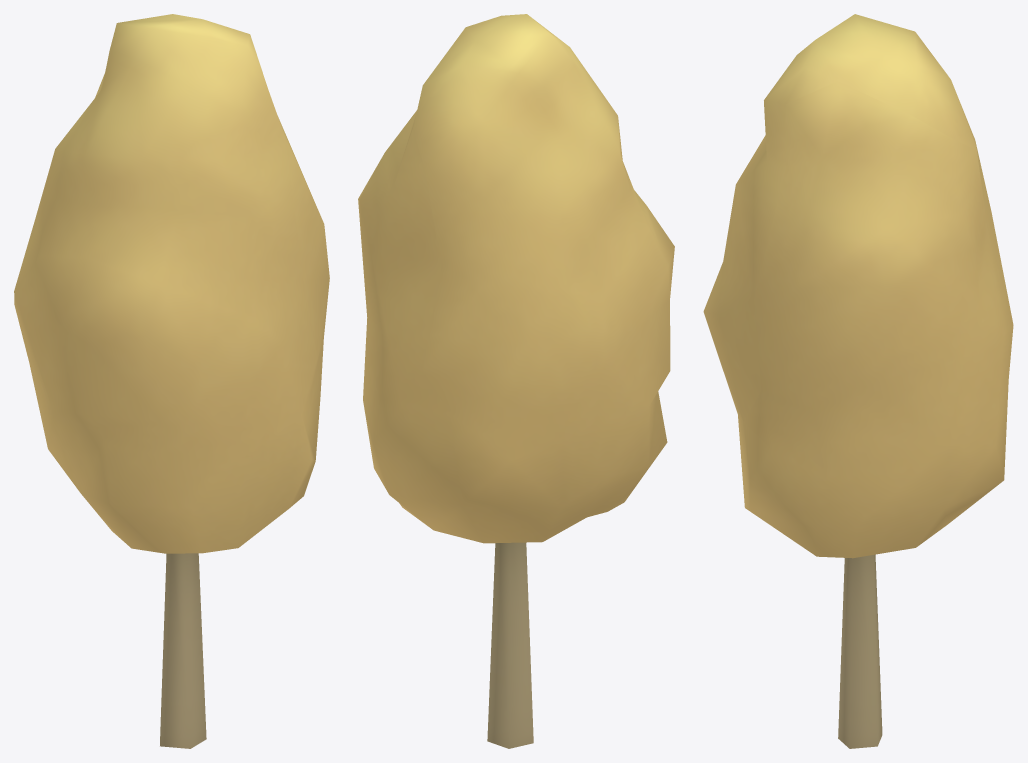
The picture shows the model from 3 angles, left to right: view 1: azimuth 30°, elevation 25°; view 2: azimuth 150°, elevation 25°; view 3: azimuth 270°, elevation 25°; orthographic projection. The views are drawn at different scales.
Visible parts, largest first — view 1: Tree.009; view 2: Tree.009; view 3: Tree.009.
Boxes of the visible parts, box(x1,y1,x2,y2) form: Tree.009: box(14, 14, 329, 748); Tree.009: box(358, 14, 674, 748); Tree.009: box(703, 14, 1013, 748).
Bounding box in the file's own units: 7.58 × 19.39 × 7.7.
1 material, 1 textured.
